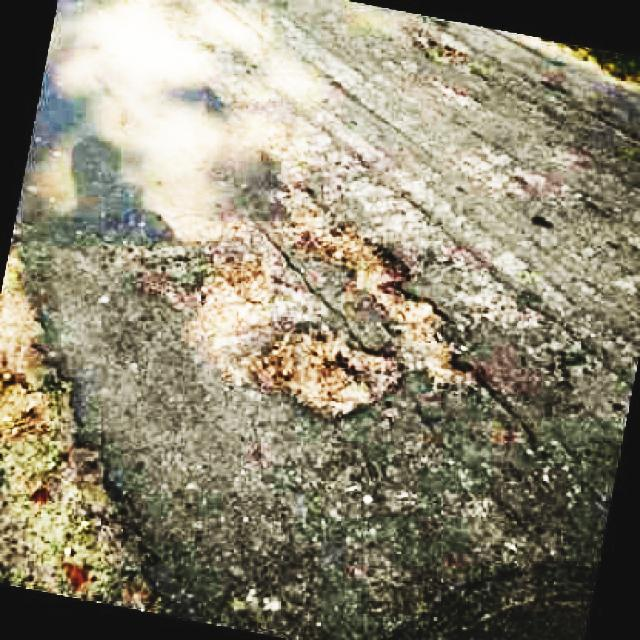pothole: (1, 246, 154, 609), (296, 191, 470, 395), (251, 329, 406, 414)
